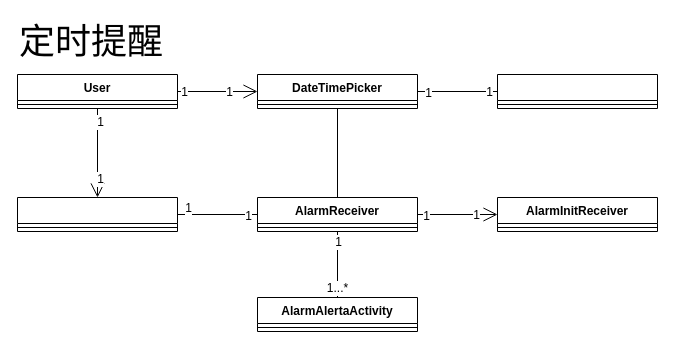
This 675x349 diagram has some shape labels left out. The centre of each missing label's shape, as x and y in pixels:
"DateTimePickerDialog" belongs at (x=577, y=91).
"NotesListAdapter" belongs at (x=97, y=214).
